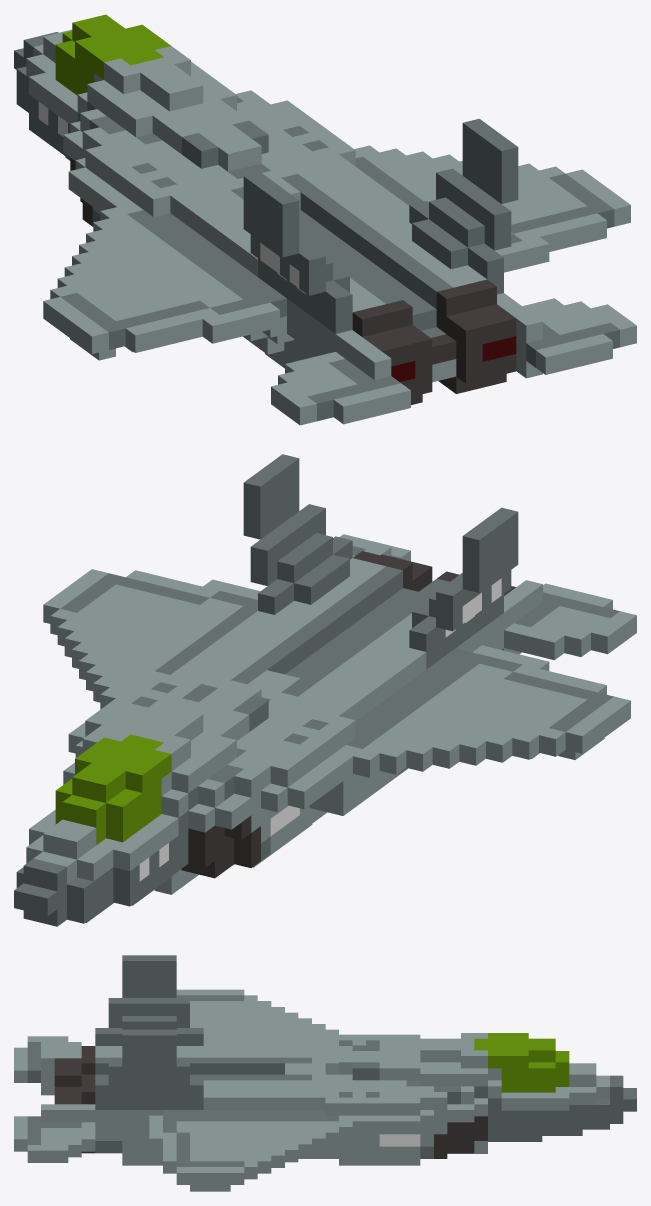
The picture shows the model from 3 angles, top to bottom: view 1: azimuth 30°, elevation 25°; view 2: azimuth 150°, elevation 25°; view 3: azimuth 270°, elevation 25°; orthographic projection. The views are drawn at different scales.
Visible parts, largest first — view 1: kf21; view 2: kf21; view 3: kf21.
Boxes of the visible parts, x1,y1,x2,y2 form: kf21: [14, 14, 636, 425]; kf21: [14, 454, 636, 926]; kf21: [14, 955, 636, 1191].
Bounding box in the file's own units: 320 × 120 × 460.
